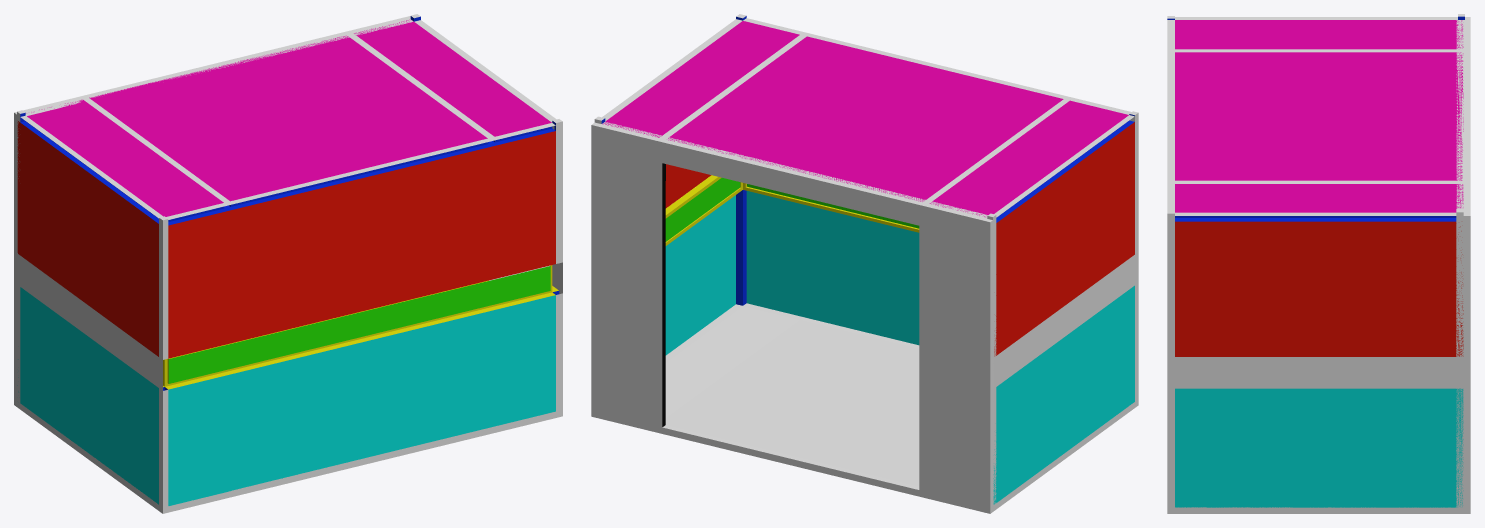
Rendered from elevator_real.fbx.
3 renders of one model, left to right at view 1: azimuth 30°, elevation 25°; view 2: azimuth 150°, elevation 25°; view 3: azimuth 270°, elevation 25°, orthographic. The views are drawn at different scales.
Visible parts, largest first — view 1: Cube.011, Cube.015; view 2: Cube.011, Cube.015; view 3: Cube.011, Cube.015.
Boxes of the visible parts, box(x1,y1,x2,y2) form: Cube.011: box(14, 14, 562, 508); Cube.015: box(14, 399, 562, 513); Cube.011: box(591, 14, 1138, 507); Cube.015: box(591, 303, 1138, 513); Cube.011: box(1167, 14, 1470, 511); Cube.015: box(1167, 507, 1470, 513).
Size of the model in its own units: 311 by 220 by 200.
